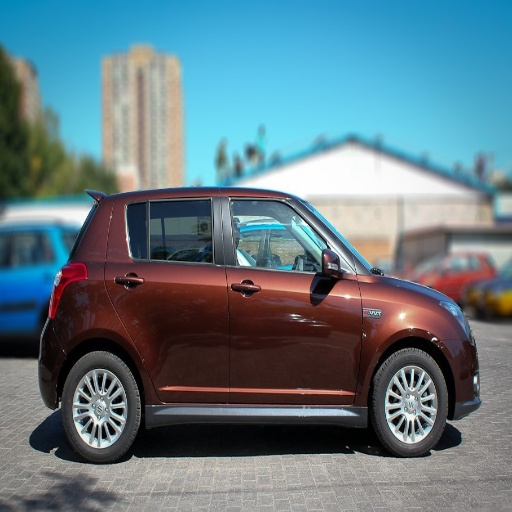back_right_door: (106, 193, 226, 404)
front_right_door: (224, 194, 362, 403)
